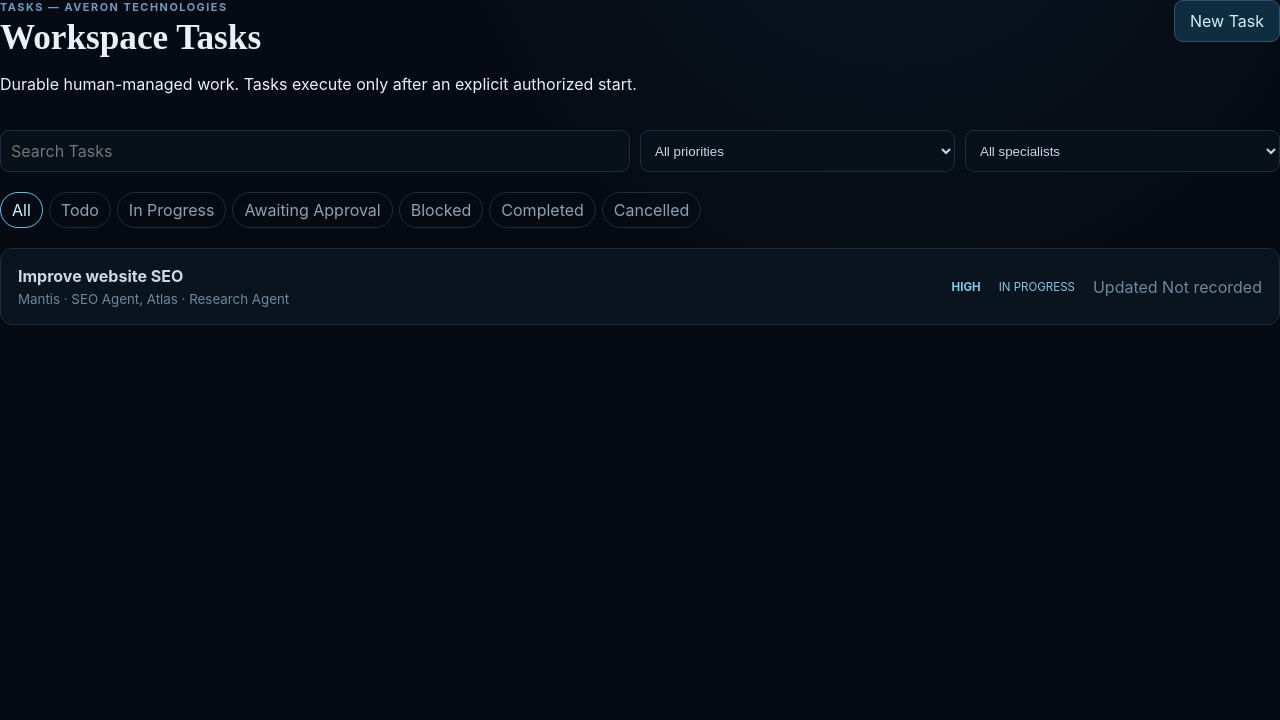
Scenario: Tasks Control Center › edits Task content through the versioned human update endpoint
Click the button "Improve website SEO".
click(101, 276)  # box [0,248,1279,325]
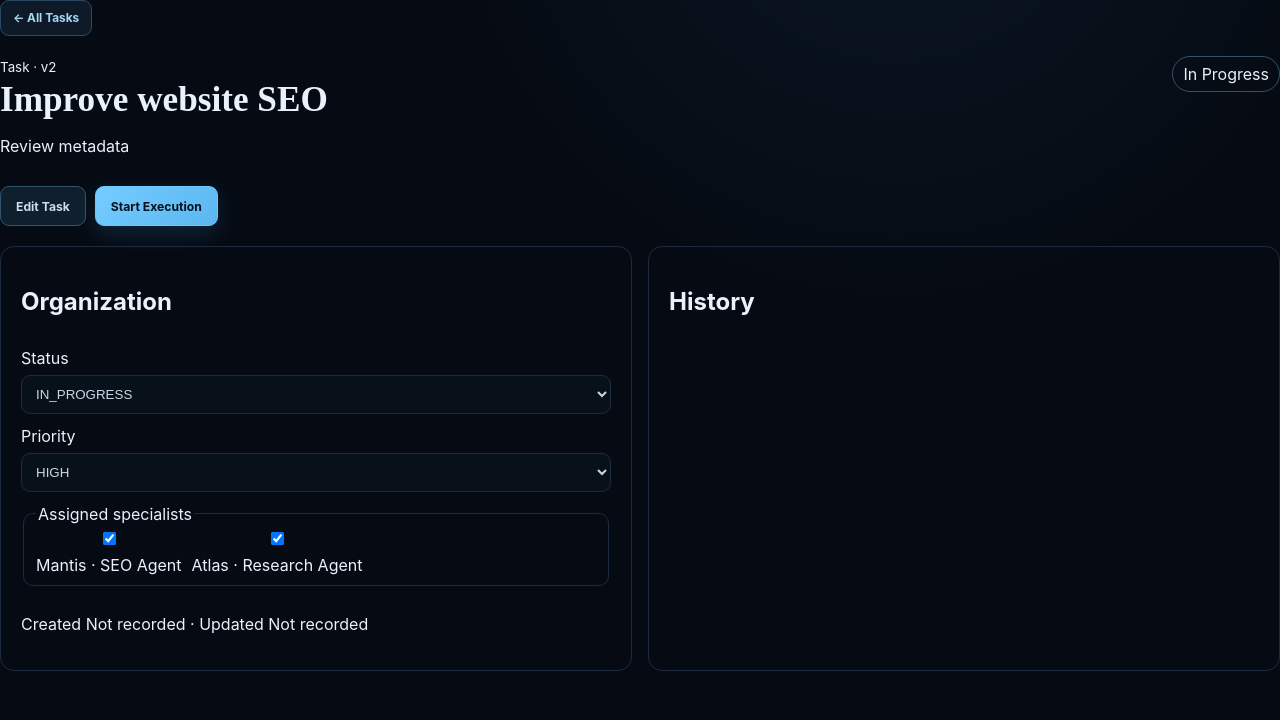
Expected: the heading "Organization" is shown, [21,287,172,316]
Click the button "Edit Task".
click(43, 206)  # box [0,186,86,226]
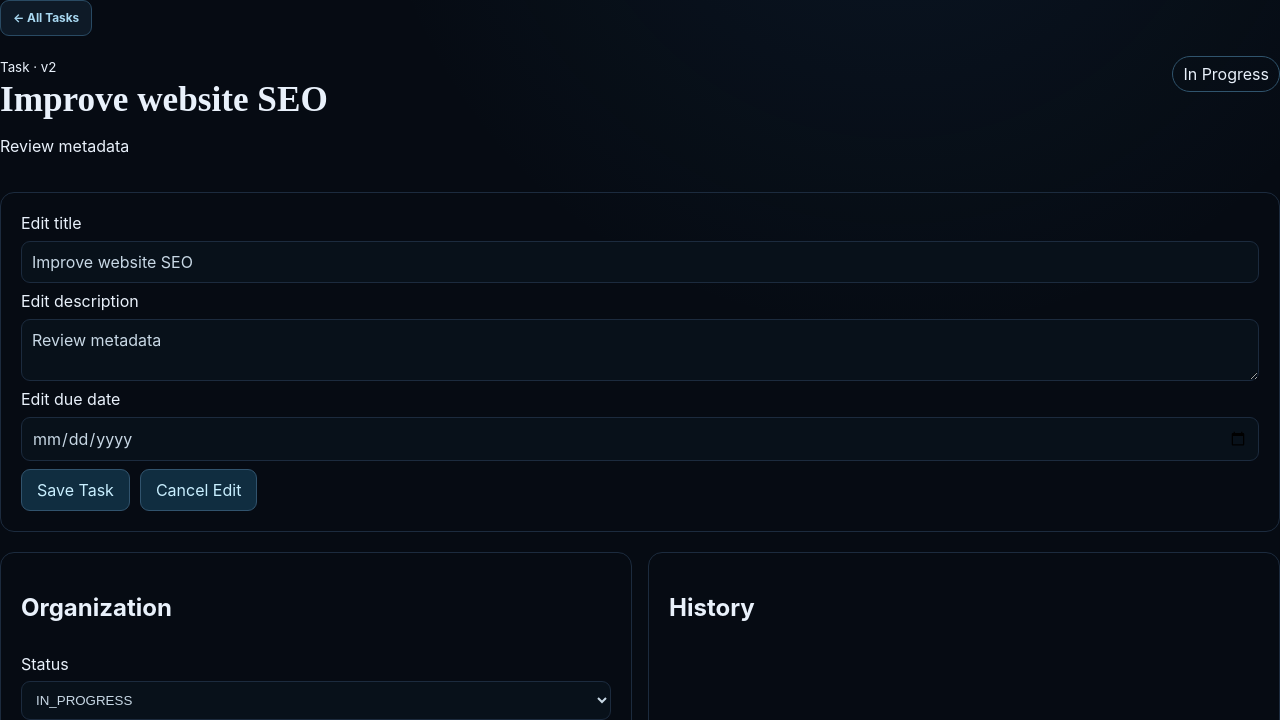
Replace the text in the field labelled "Edit title" with "Improve canonical SEO" at (640, 262), box [21,241,1259,283]
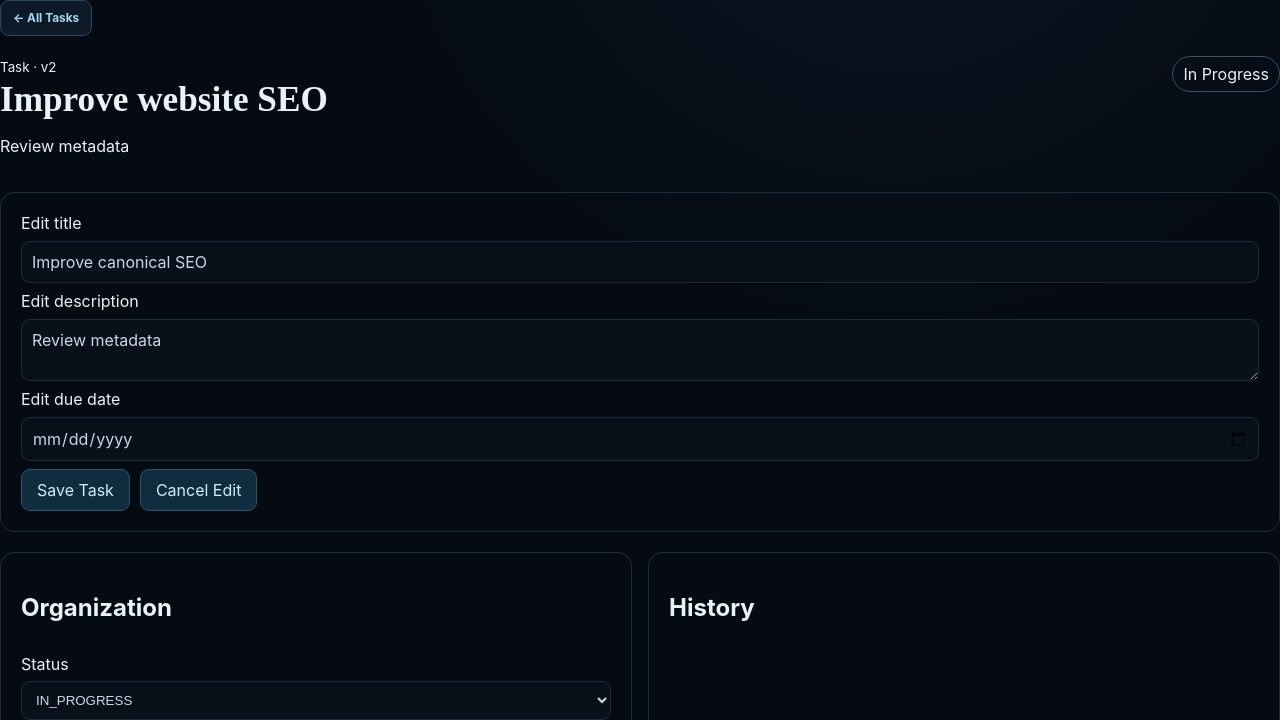
Replace the text in the text box labelled "Edit description" with "Review canonical metadata" at (640, 350), box [21,319,1259,381]
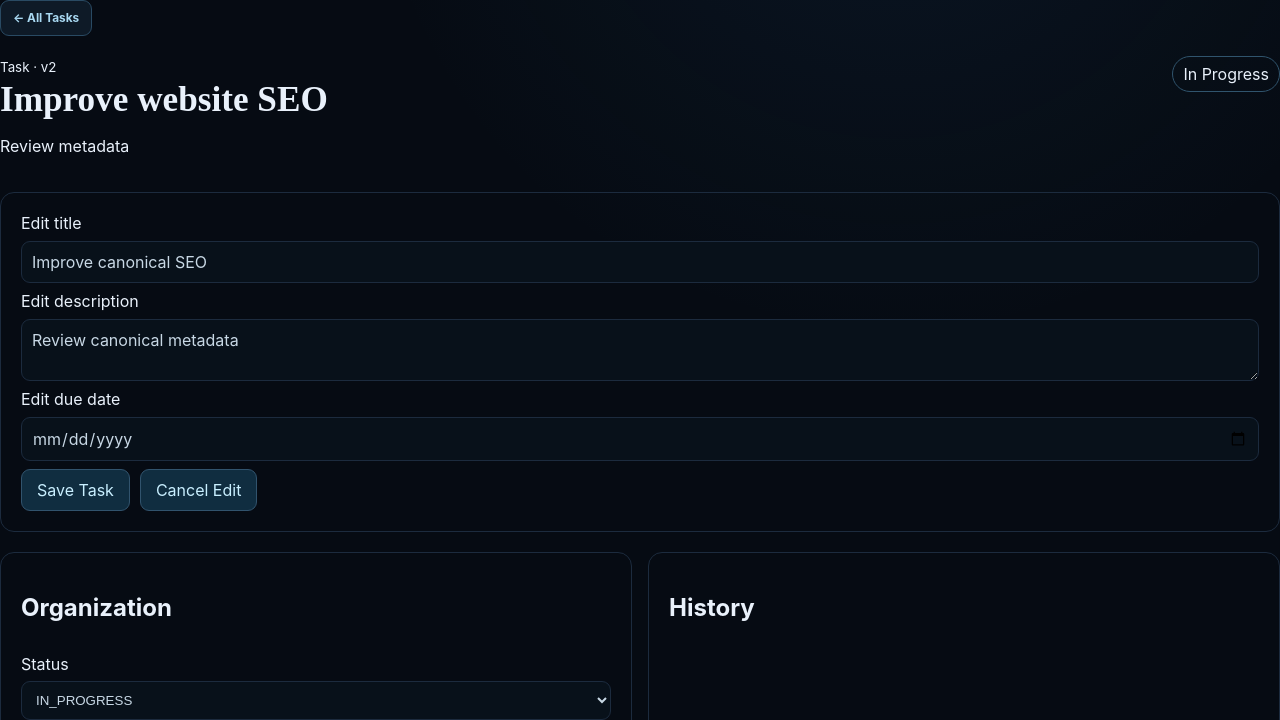
Click the button "Save Task".
click(75, 490)  # box [21,469,130,511]
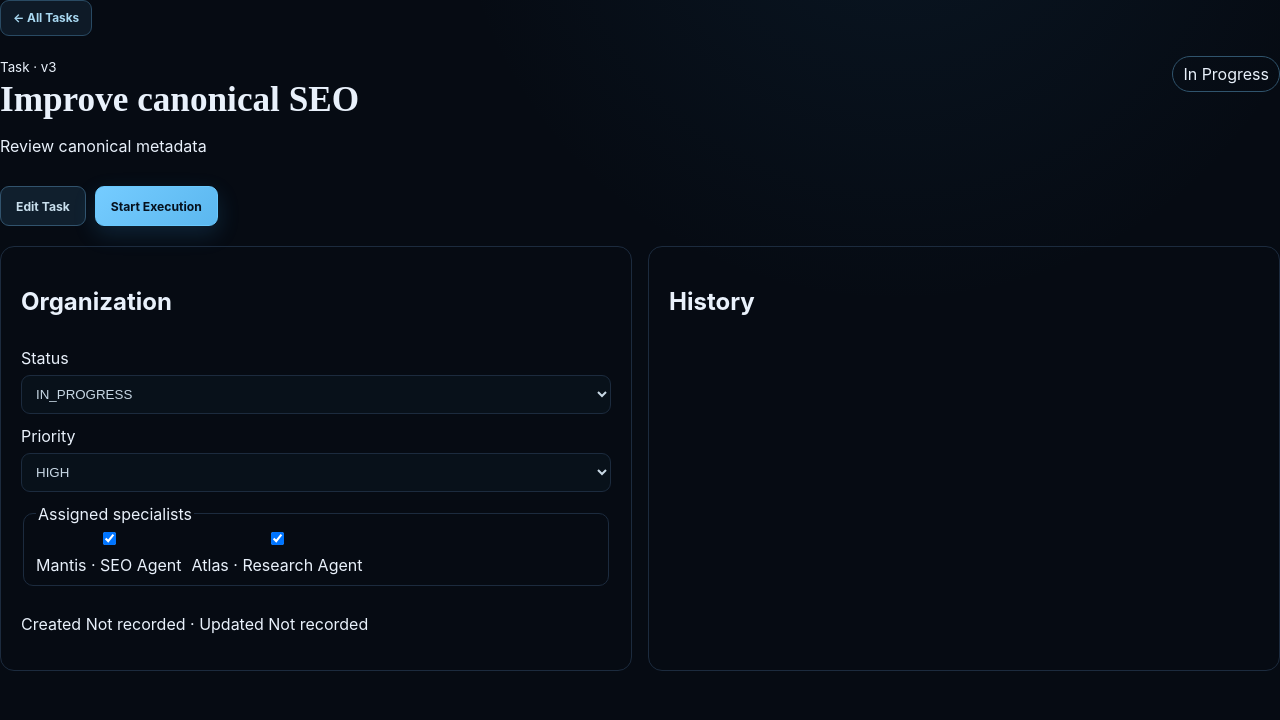
Expected: the heading "Improve canonical SEO" is shown, [0,80,359,120]
